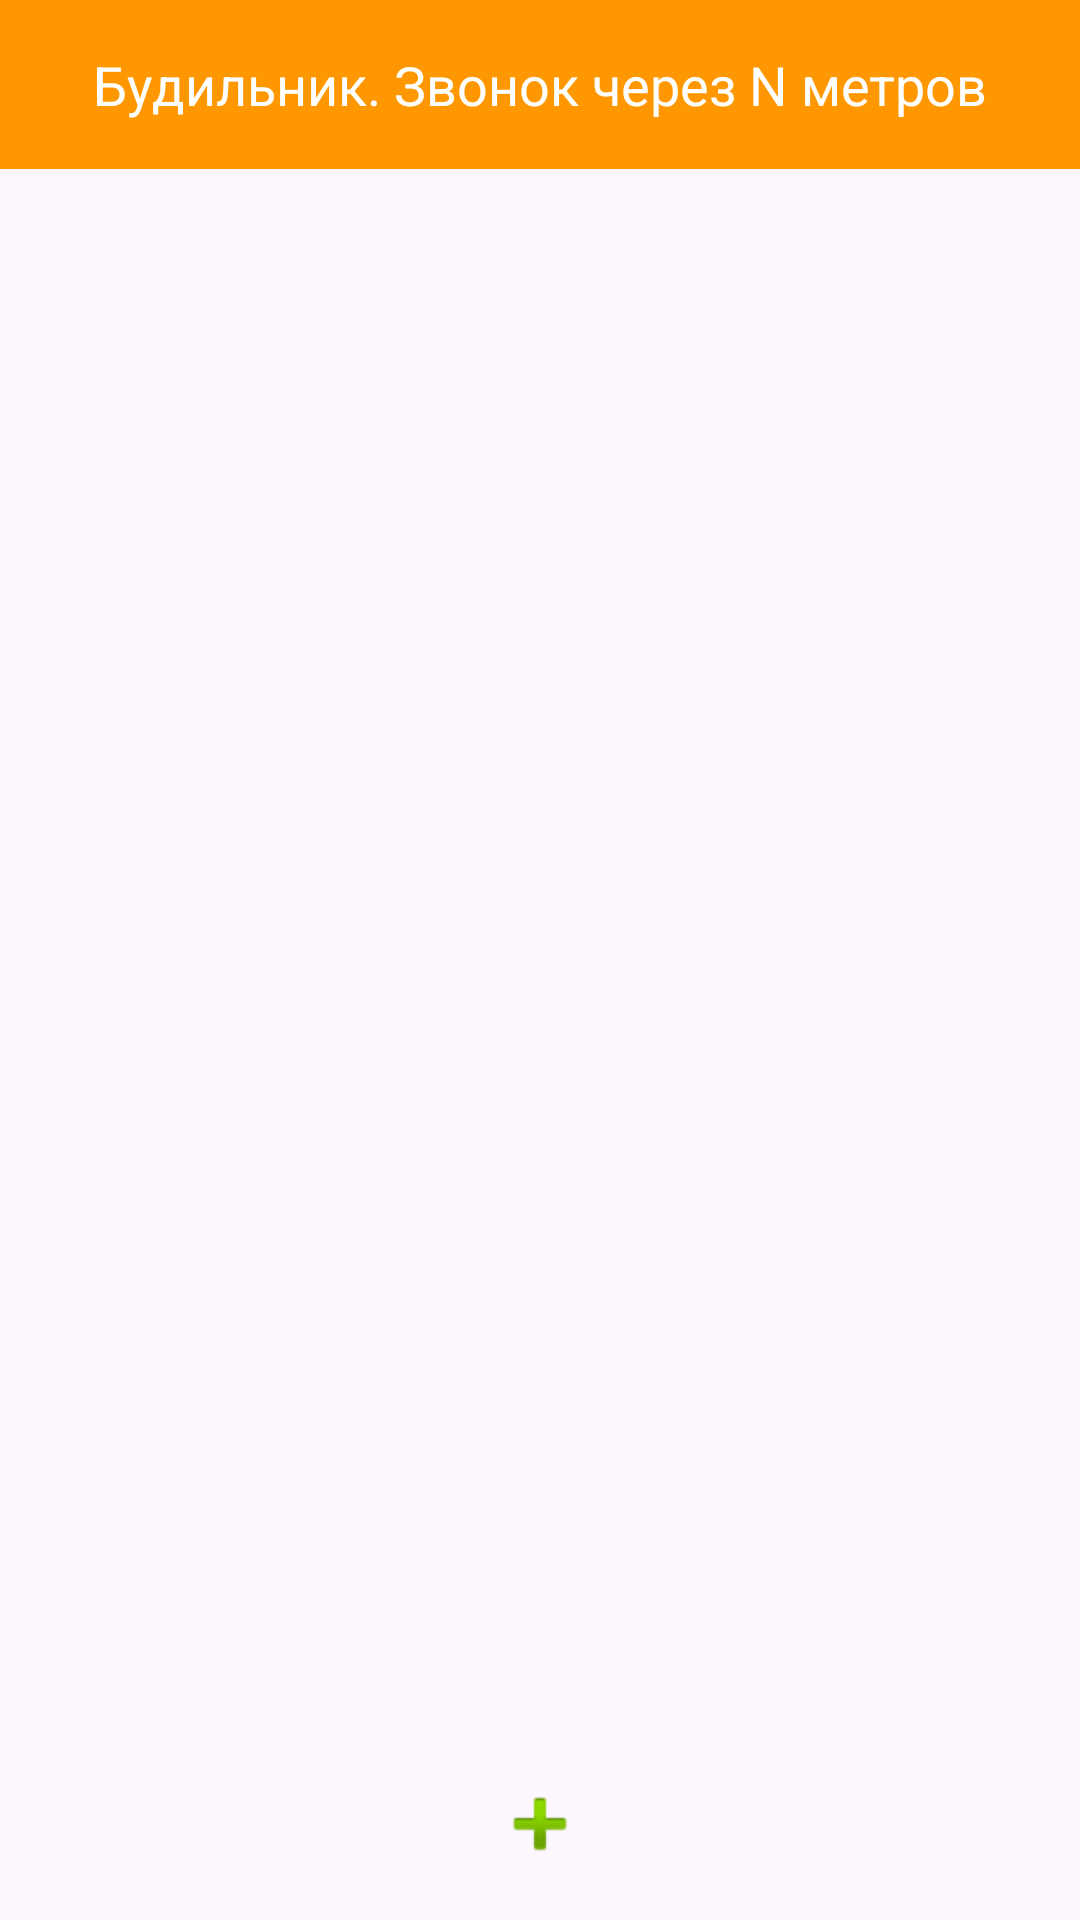

Icon click points for this 1080px x 1920px phone screenshot, format point (x, y):
Add Alarm: point (540, 1824)
